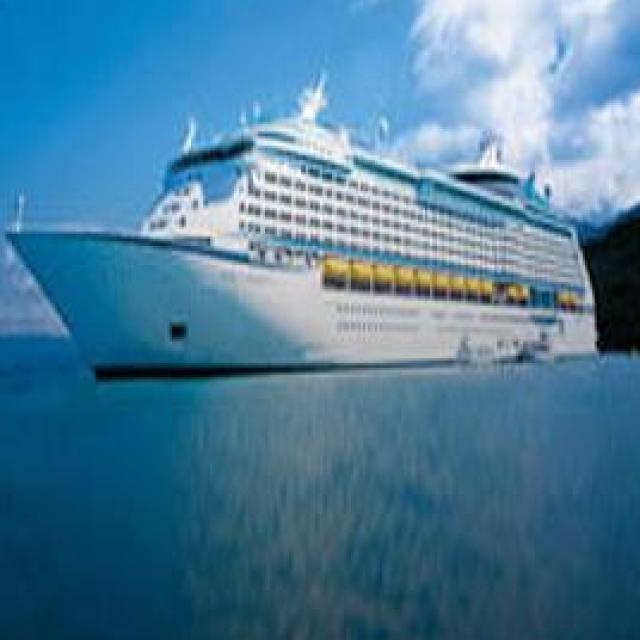passenger ship: (6, 94, 606, 381)
